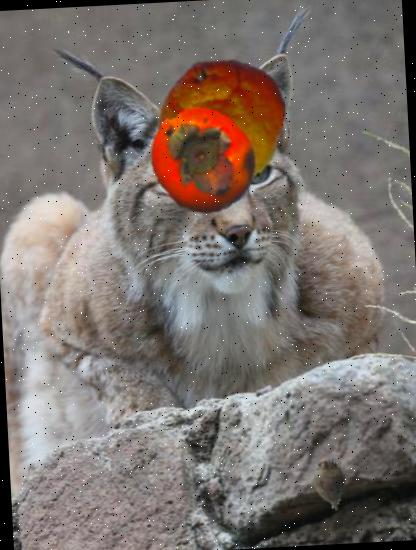Beetroot: (302, 456, 360, 514)
Kaki: (145, 102, 261, 218)
Mandarine: (155, 54, 290, 190)
